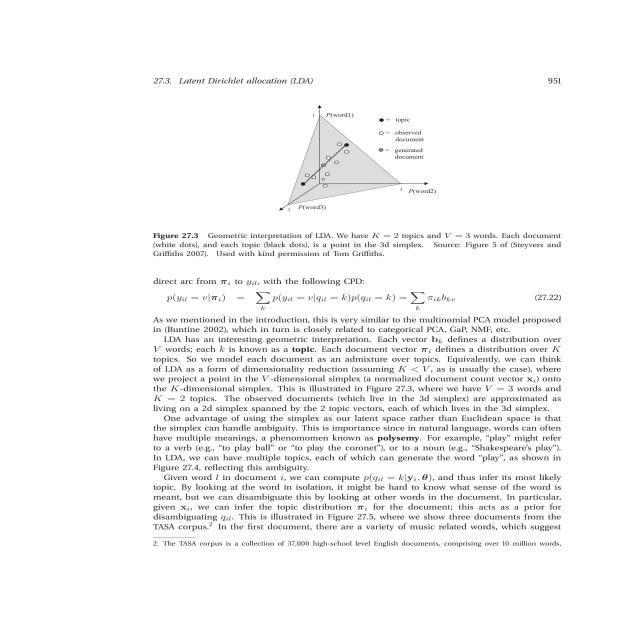diagram: (143, 100, 587, 268)
